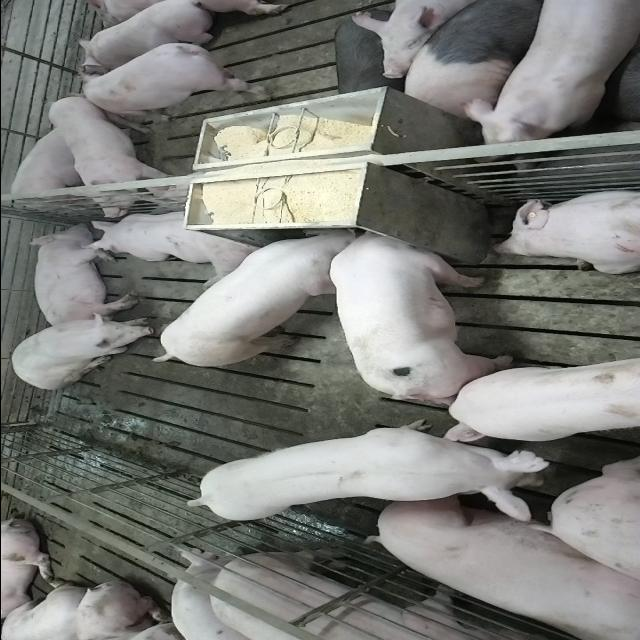Feeding: (328, 220, 512, 397), (142, 229, 358, 372)
Lateral_lying: (23, 224, 138, 332)
Sitting: (8, 312, 158, 389)
Standing: (193, 548, 639, 640), (188, 420, 568, 526), (460, 2, 640, 146), (394, 1, 564, 120), (447, 351, 640, 439), (48, 92, 176, 220), (75, 38, 258, 116)
Sternal_lying: (84, 208, 264, 282), (490, 186, 640, 274), (72, 3, 218, 69), (4, 125, 92, 212)
